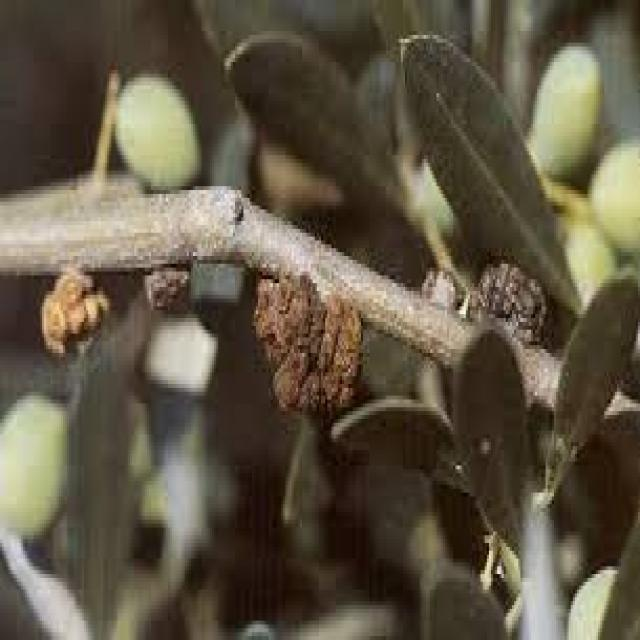Tuberculosis: (252, 272, 363, 427), (422, 260, 548, 341), (42, 268, 109, 360), (145, 264, 191, 310)
